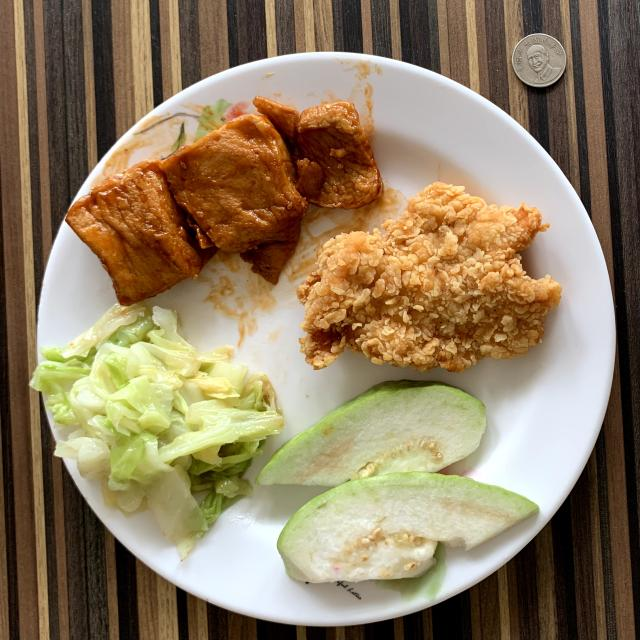cabbage: (31, 302, 284, 551)
coin: (511, 34, 566, 88)
creamy tofu: (66, 96, 382, 305)
fried chicken cutlet: (298, 182, 561, 372)
guava -sliced-: (256, 380, 539, 582)
